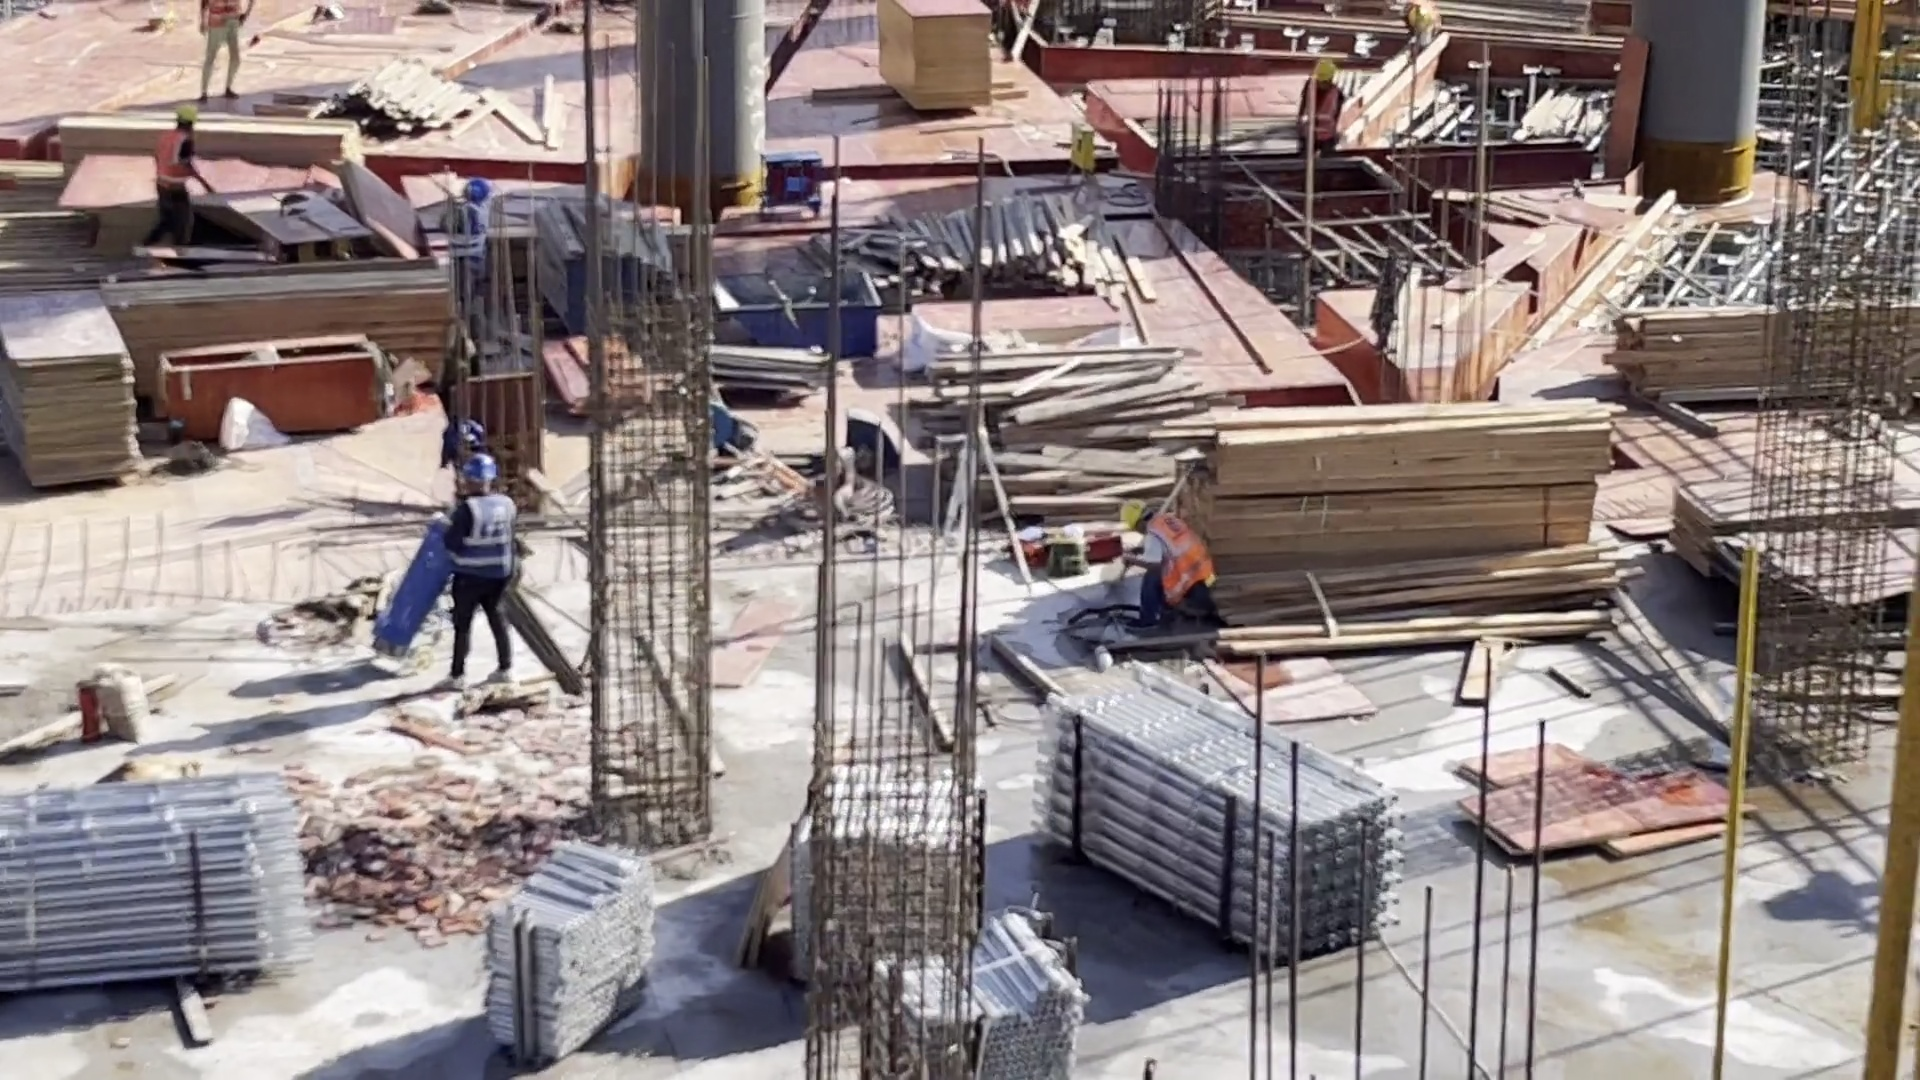board: (1674, 472, 1920, 629), (1, 282, 143, 514), (58, 150, 341, 216), (877, 1, 996, 116)
helmet: (458, 450, 498, 481), (1125, 501, 1151, 527), (463, 175, 489, 198), (177, 105, 199, 127), (1411, 7, 1429, 31), (1317, 63, 1333, 82)
hopper: (713, 273, 882, 354)
person: (437, 452, 532, 685), (1126, 502, 1217, 635), (156, 104, 210, 243), (199, 1, 255, 105), (1303, 54, 1347, 152), (448, 176, 501, 242), (1397, 4, 1441, 48)
scaffold: (1031, 657, 1400, 963), (792, 763, 1088, 1080), (4, 776, 311, 997), (485, 838, 658, 1057)
vest: (461, 494, 513, 579), (1152, 519, 1203, 600), (1306, 81, 1341, 144), (159, 131, 189, 189), (459, 204, 487, 258)
wood: (1154, 398, 1620, 653), (926, 348, 1187, 519), (1606, 309, 1920, 416), (122, 271, 458, 365), (869, 197, 1140, 301), (58, 109, 357, 161)
